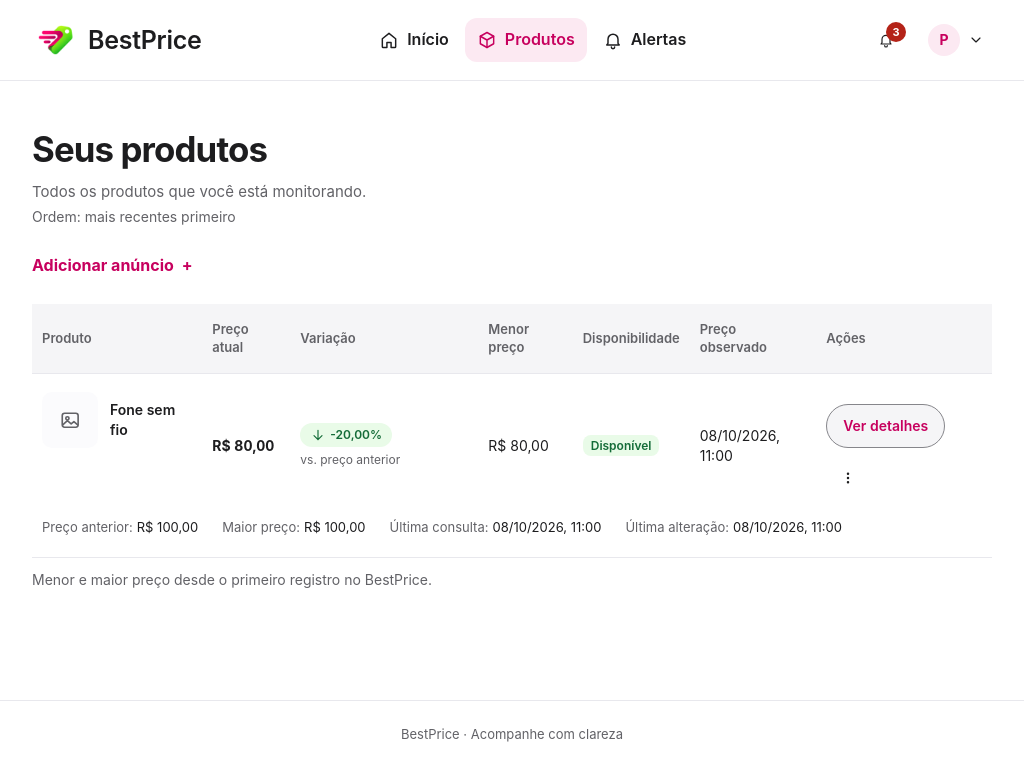
Scenario: painel do sino › move o foco ao item seguinte ao marcar e ao título quando não resta item
The width and height of the screenshot is (1024, 768).
Click the button named "Notificações".
click(886, 40)  # box [864, 18, 908, 62]
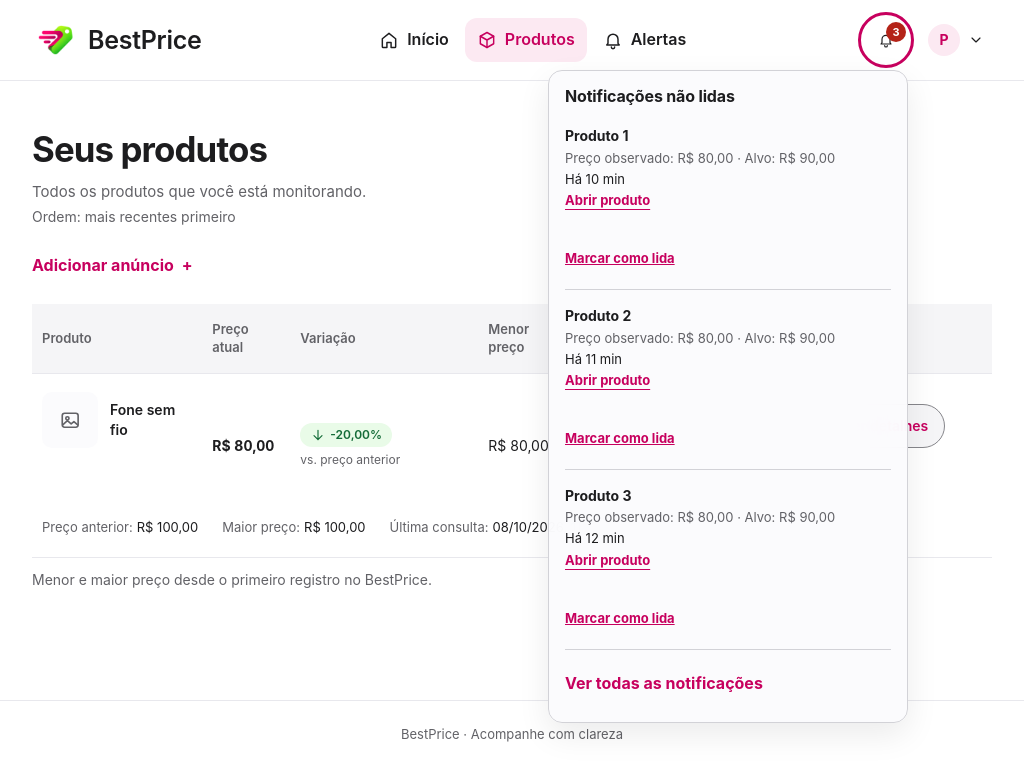
Click the button named "Marcar como lida: Produto 2".
click(620, 439)  # box [565, 417, 675, 461]
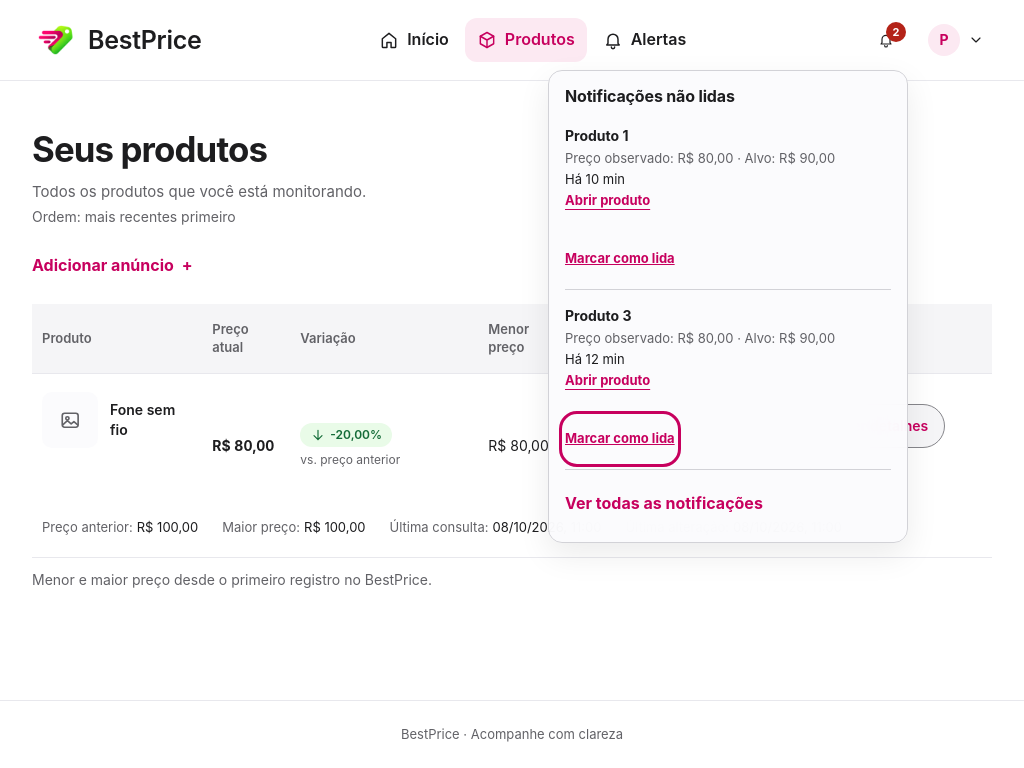
Click the button named "Marcar como lida: Produto 1".
click(620, 259)  # box [565, 237, 675, 281]
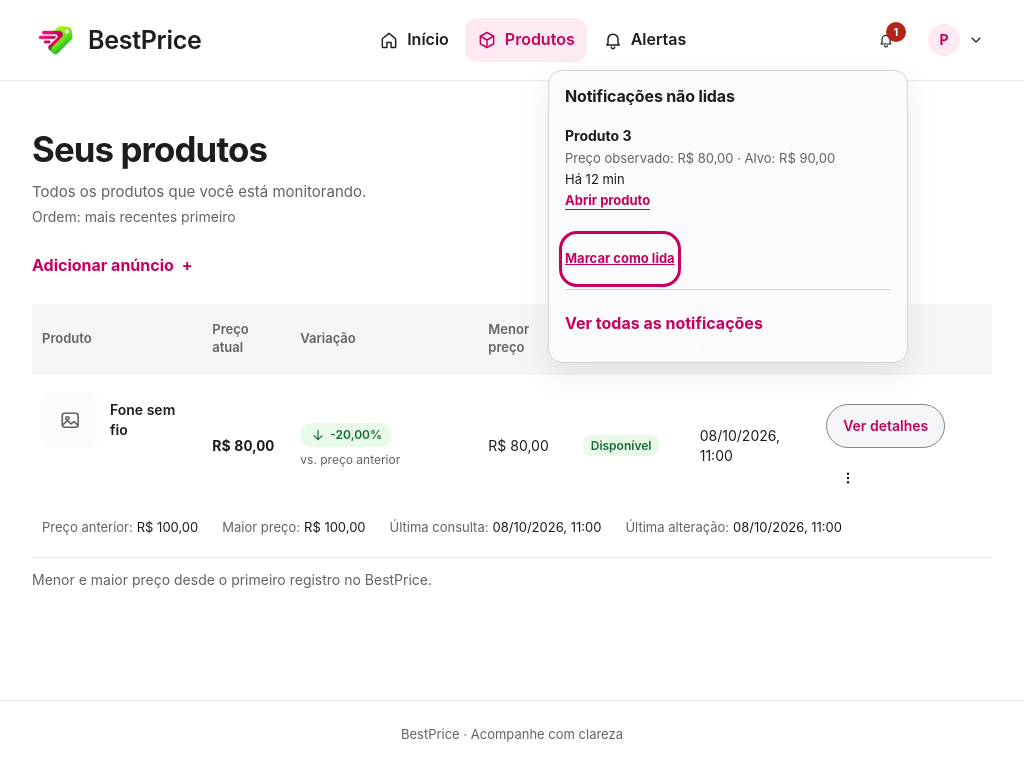
Click the button named "Marcar como lida: Produto 3".
click(620, 259)  # box [565, 237, 675, 281]
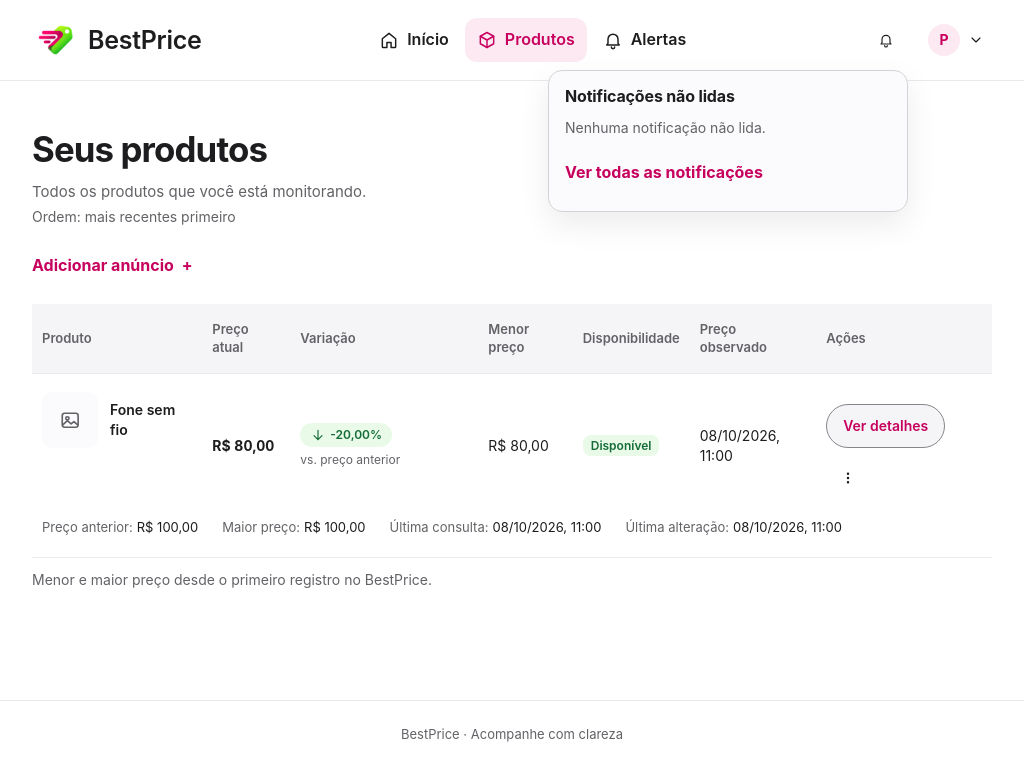
Expected: the text "Nenhuma notificação não lida." is shown, [565, 119, 766, 136]
